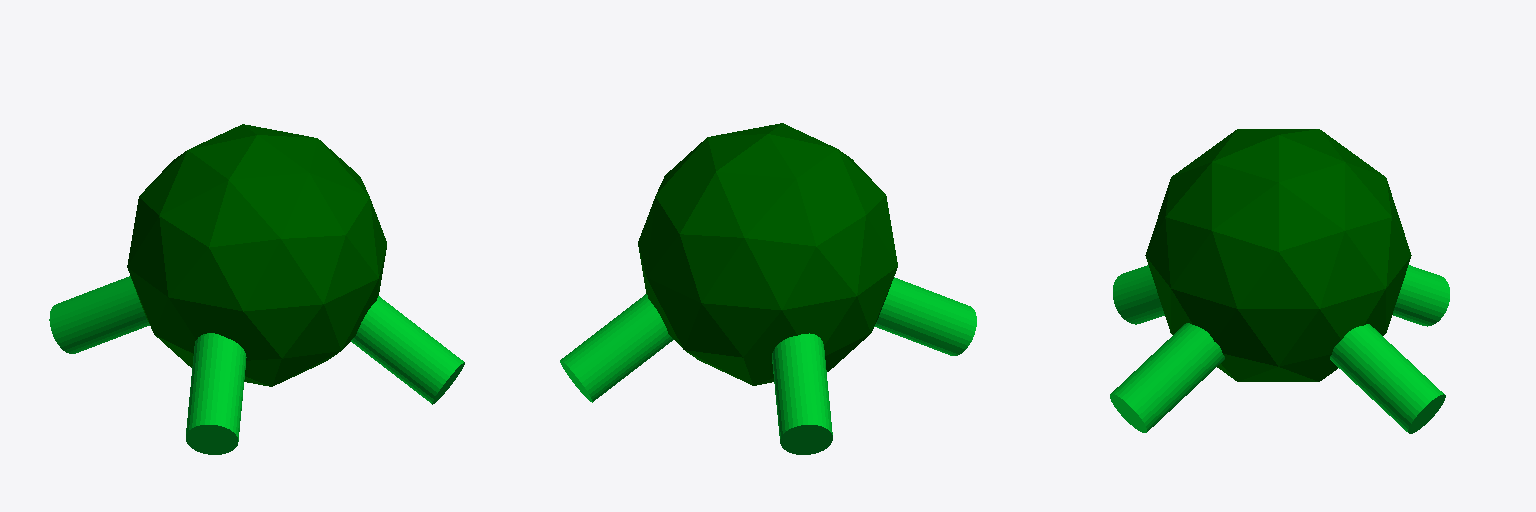
The model's file is turtle.obj.
The picture shows the model from 3 angles: view 1: azimuth 30°, elevation 25°; view 2: azimuth 150°, elevation 25°; view 3: azimuth 270°, elevation 25°; orthographic projection.
Visible parts, largest first — view 1: 棱角球, 柱体.002, 柱体, 柱体.003; view 2: 棱角球, 柱体.003, 柱体.001, 柱体.002; view 3: 棱角球, 柱体.001, 柱体, 柱体.003, 柱体.002.
Part boxes in pixels (left/top/right/bottom): 棱角球: left=127, top=124, right=386, bottom=386; 柱体.002: left=186, top=333, right=246, bottom=454; 柱体: left=351, top=296, right=464, bottom=404; 柱体.003: left=49, top=276, right=149, bottom=353; 棱角球: left=638, top=123, right=897, bottom=385; 柱体.003: left=772, top=333, right=832, bottom=454; 柱体.001: left=560, top=294, right=673, bottom=402; 柱体.002: left=874, top=277, right=976, bottom=355; 棱角球: left=1145, top=129, right=1411, bottom=381; 柱体.001: left=1330, top=324, right=1445, bottom=433; 柱体: left=1110, top=323, right=1224, bottom=432; 柱体.003: left=1393, top=265, right=1449, bottom=326; 柱体.002: left=1113, top=265, right=1164, bottom=324.
Size of the model in its own units: 2.4 by 2.01 by 2.56.